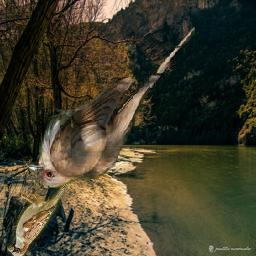Cuckoo: (23, 26, 195, 191)
Sparrow: (8, 182, 69, 256)
